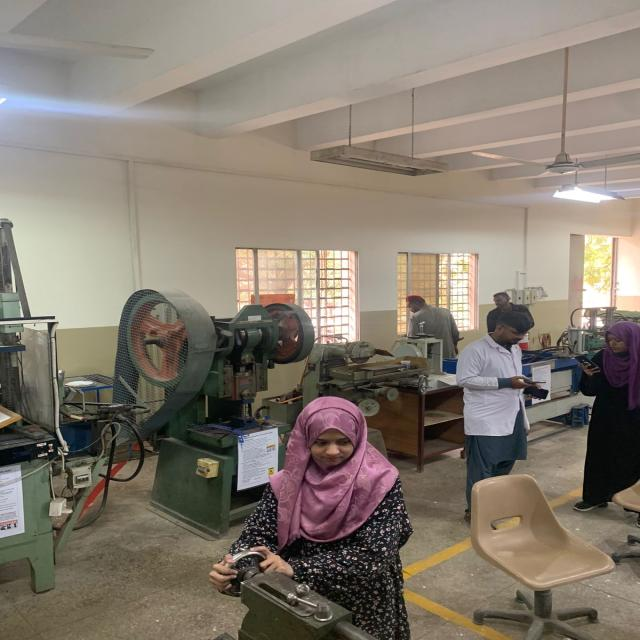labcoat: (455, 336, 541, 449)
